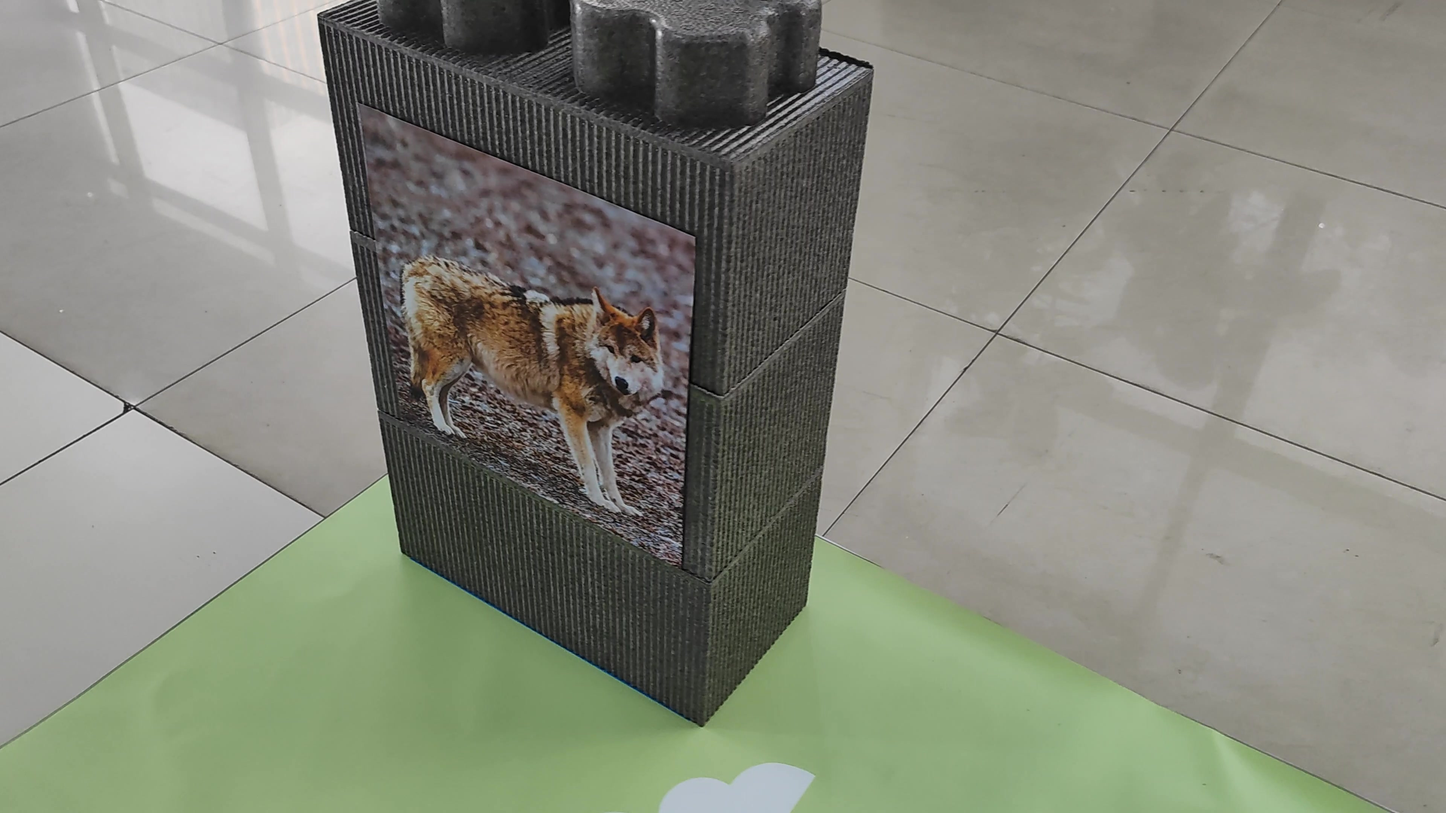wolf: (372, 166, 682, 503)
